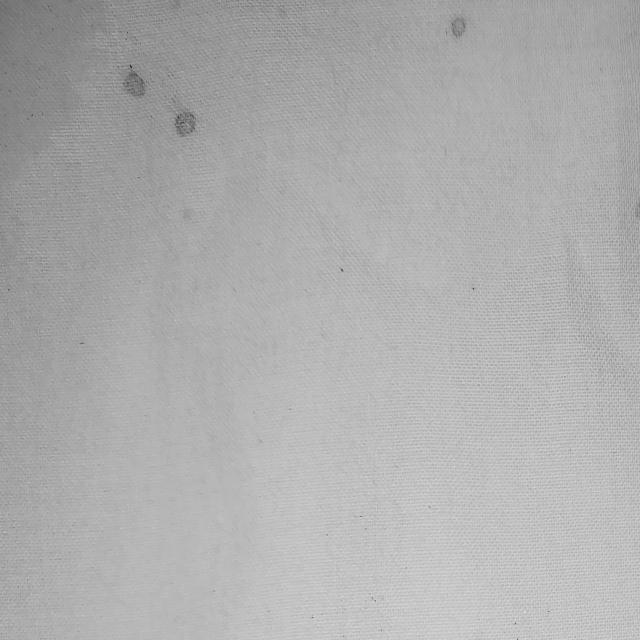Stain: (0, 0, 110, 190), (123, 65, 145, 96), (175, 110, 195, 135), (452, 14, 467, 36)
